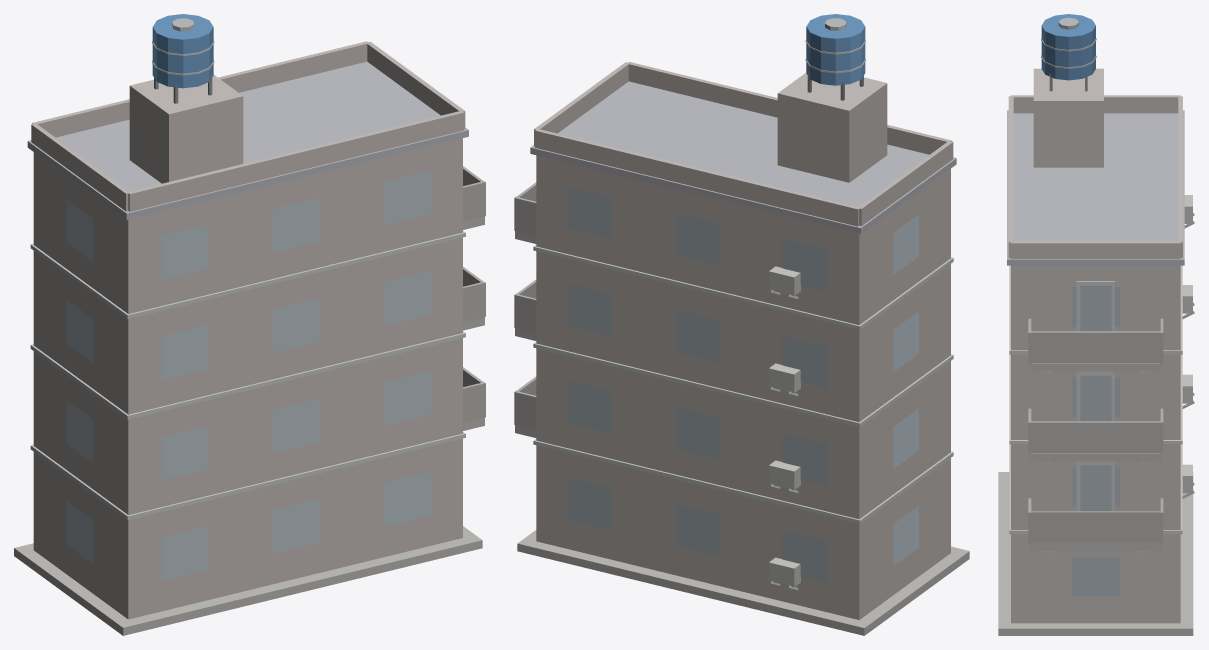
File: 07_residential_low-03.glb
3 views of the same model, side by side, from view 1: azimuth 30°, elevation 25°; view 2: azimuth 150°, elevation 25°; view 3: azimuth 270°, elevation 25° (orthographic). The views are drawn at different scales.
Size of the model in its own units: 12.25 by 17.27 by 6.14.
